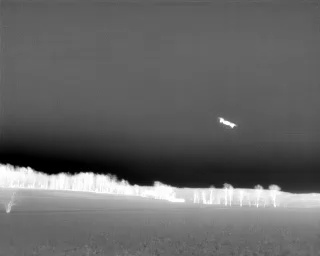DRONE: (214, 112, 240, 135)
